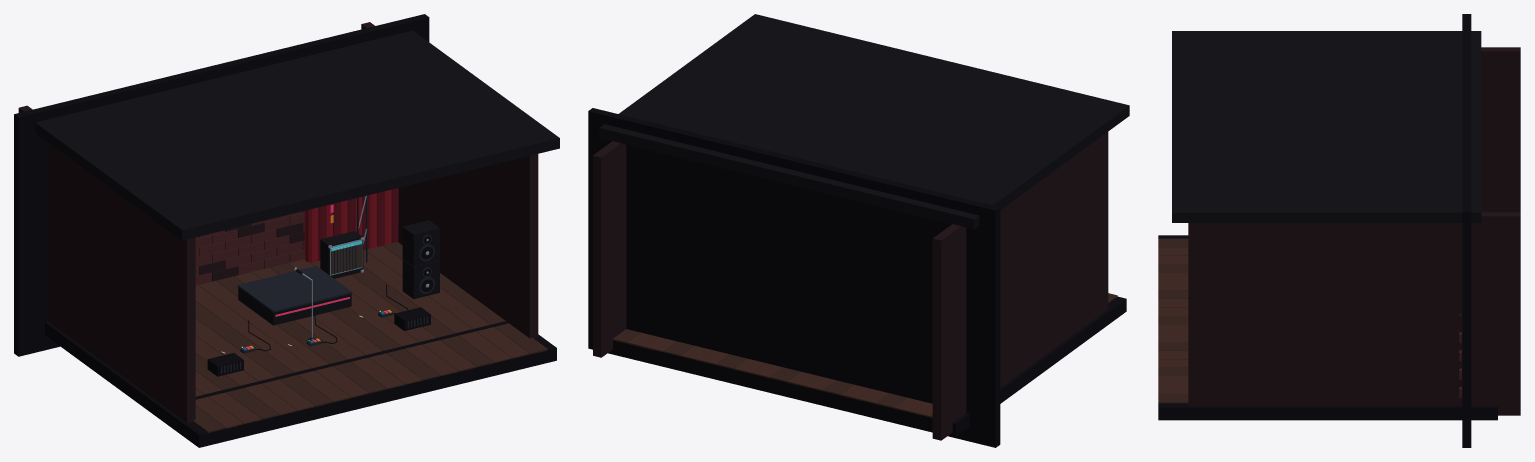
File: LiveRoom.obj
The picture shows the model from 3 angles, left to right: view 1: azimuth 30°, elevation 25°; view 2: azimuth 150°, elevation 25°; view 3: azimuth 270°, elevation 25°; orthographic projection.
Bounding box in the file's own units: 12.4 × 6.9 × 9.6.
